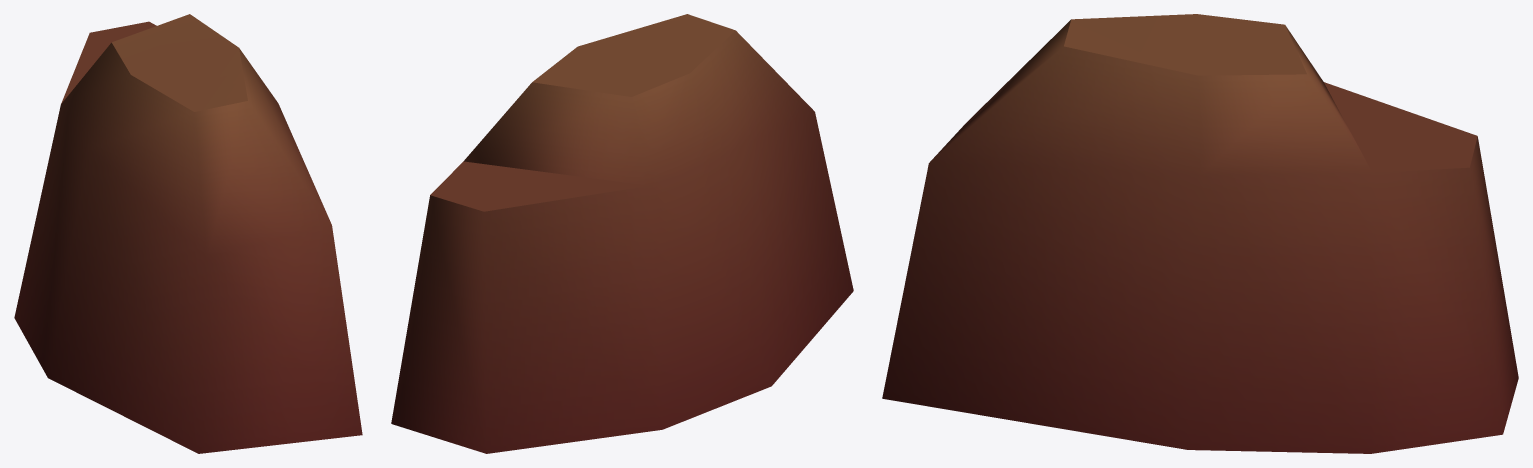
Rendered from Mountain_big.019.fbx.
3 views of the same model, side by side, from view 1: azimuth 30°, elevation 25°; view 2: azimuth 150°, elevation 25°; view 3: azimuth 270°, elevation 25° (orthographic). The views are drawn at different scales.
Parts seen in each view (by area): view 1: Mountain_big.019; view 2: Mountain_big.019; view 3: Mountain_big.019.
Boxes of the visible parts, bbox=[...] form: Mountain_big.019: bbox=[14, 14, 362, 453]; Mountain_big.019: bbox=[391, 14, 853, 453]; Mountain_big.019: bbox=[882, 14, 1518, 453].
Size of the model in its own units: 159 by 158 by 275.
